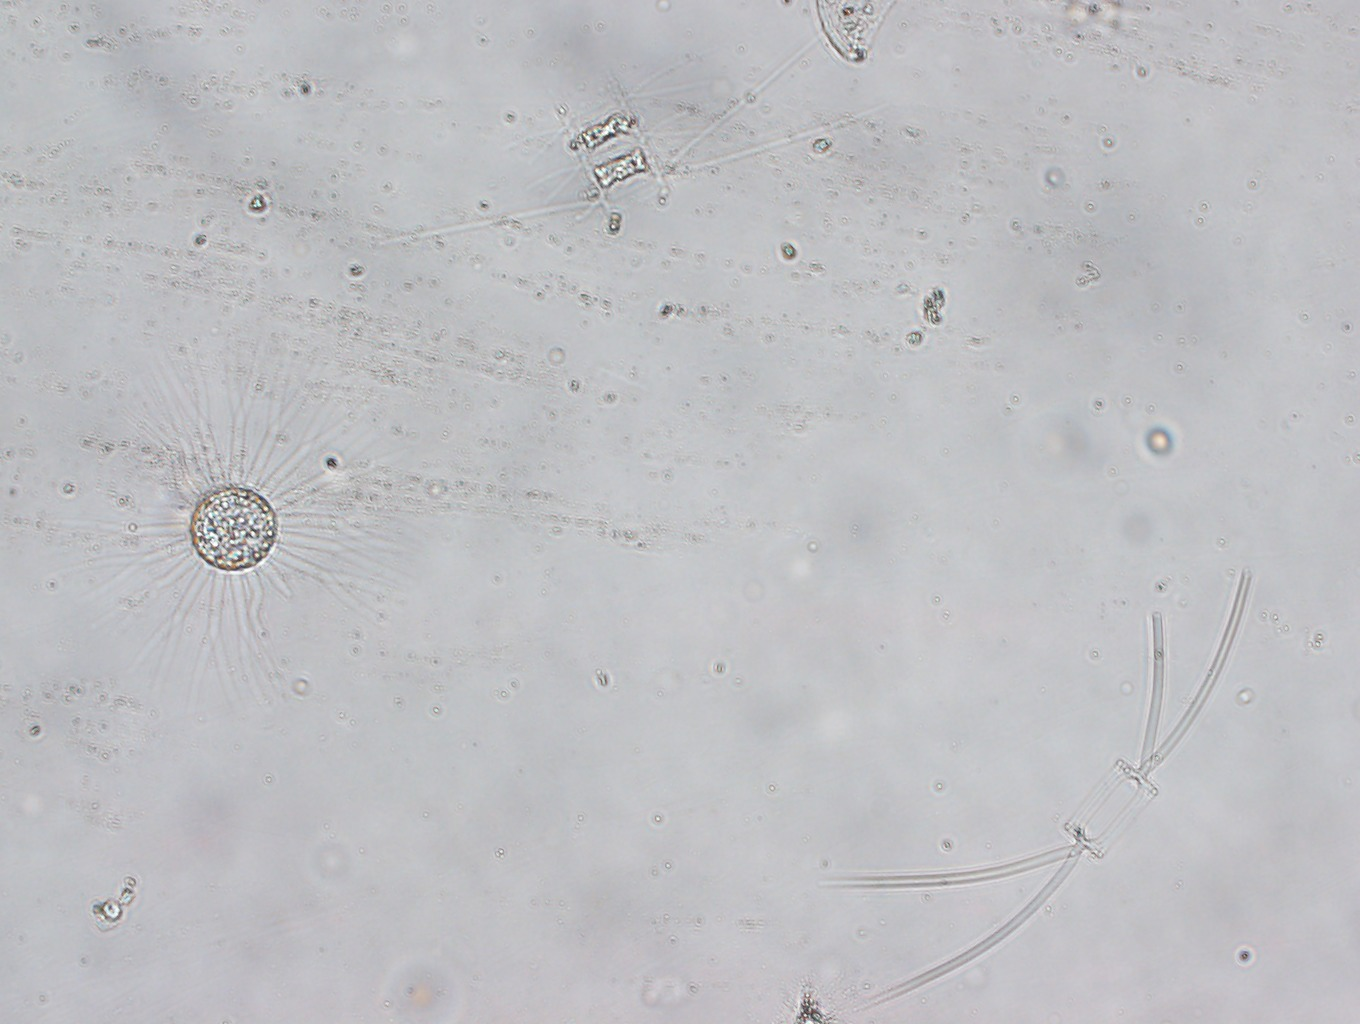bacteriastrum: (49, 331, 420, 719)
chaetoceros: (820, 568, 1251, 1014), (376, 39, 881, 247)
